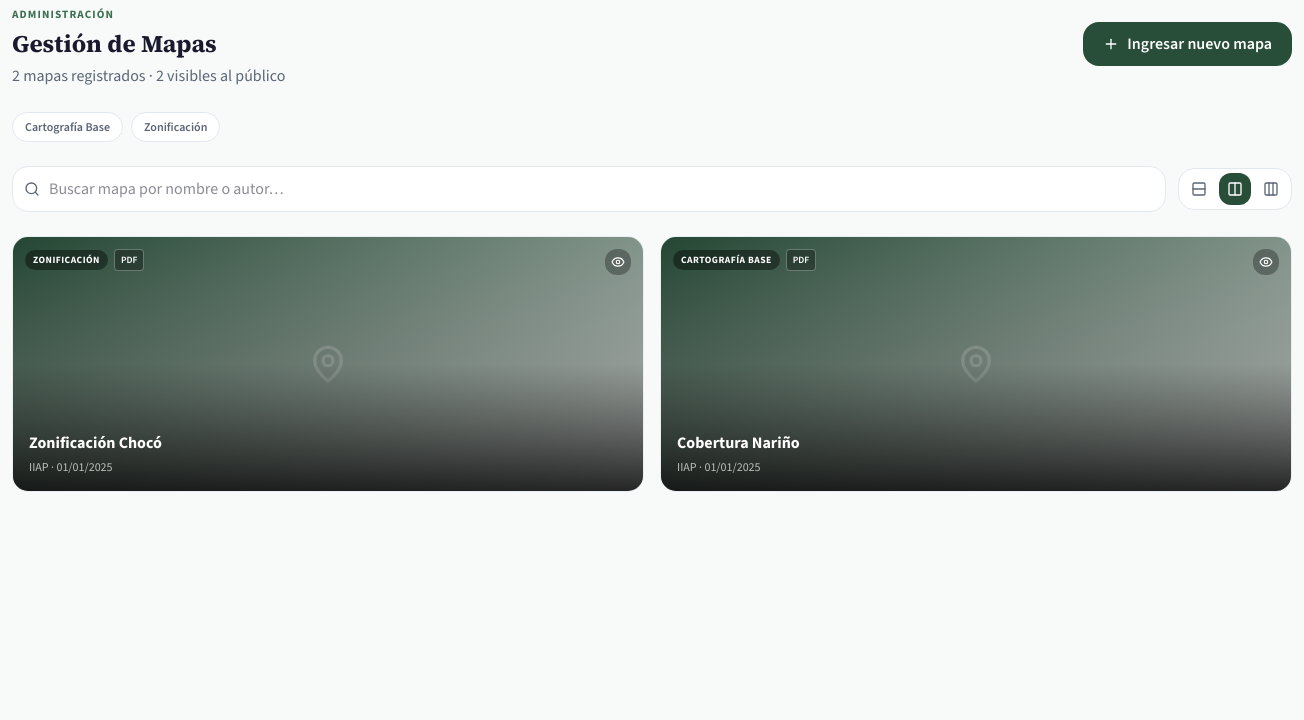
Test: GestionMapas — tarjetas y filtros › las pills temáticas filtran los mapas mostrados
Click the button "Zonificación" at (176, 127), box [131,112,220,142]
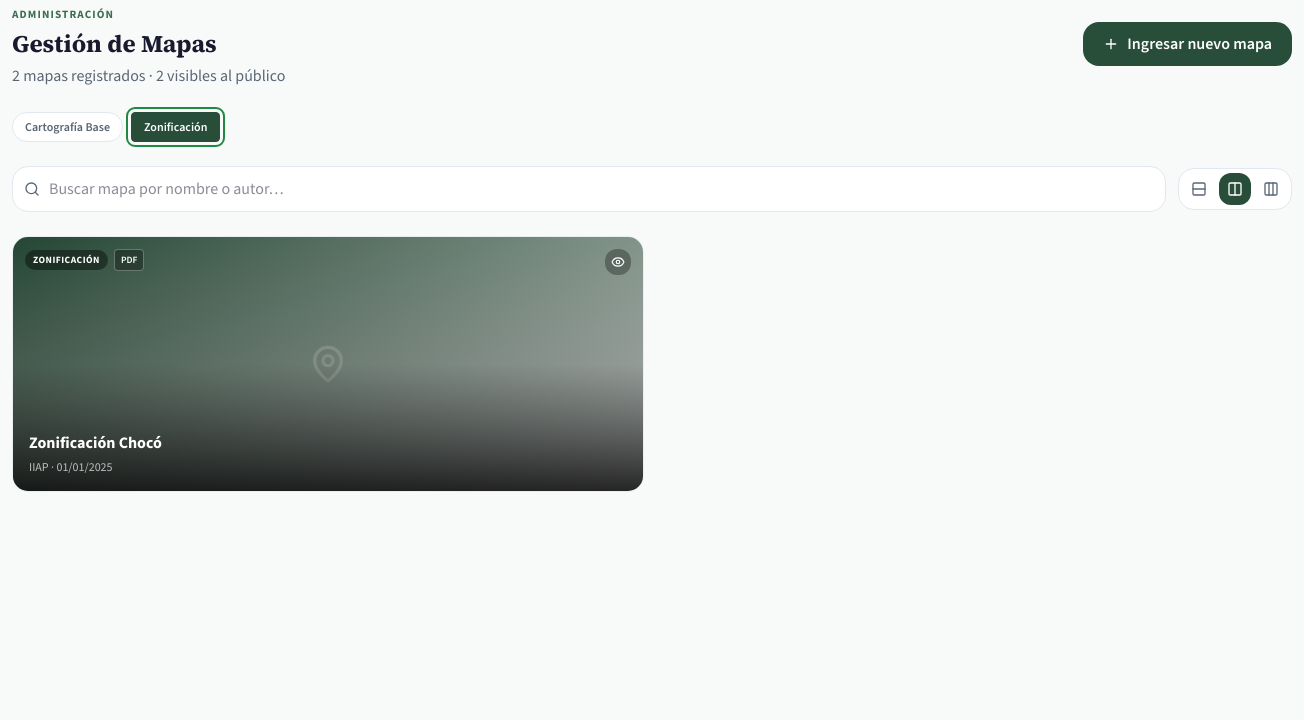
Expected: the text "Zonificación Chocó" is shown, [29,432,162,453]
Result: the button "Cobertura Nariño" is gone
